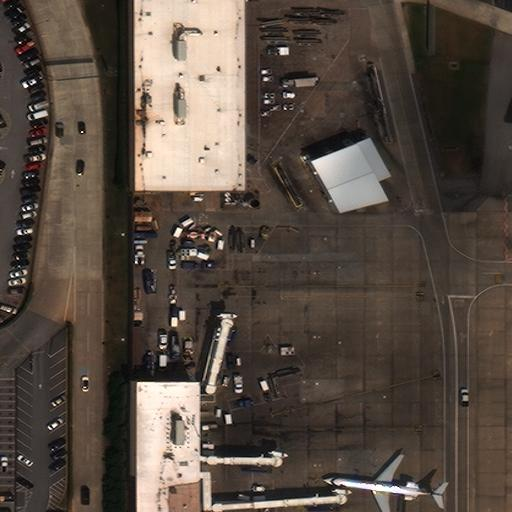Medium Civil Transport: (321, 450, 444, 512)
